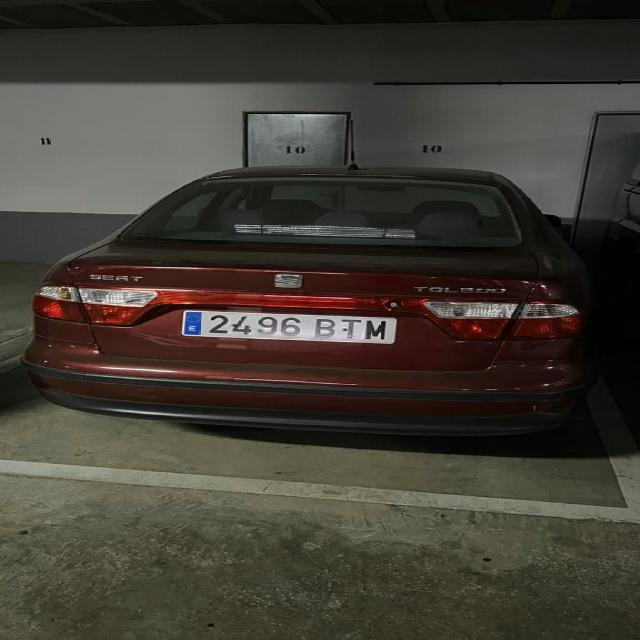License-Plate: (180, 307, 397, 347)
